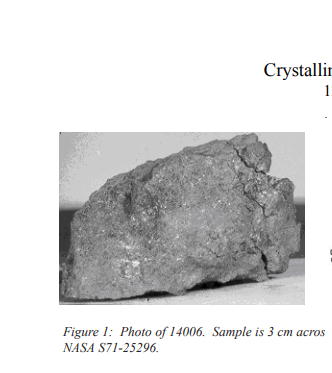Breccia: (52, 120, 299, 300)
